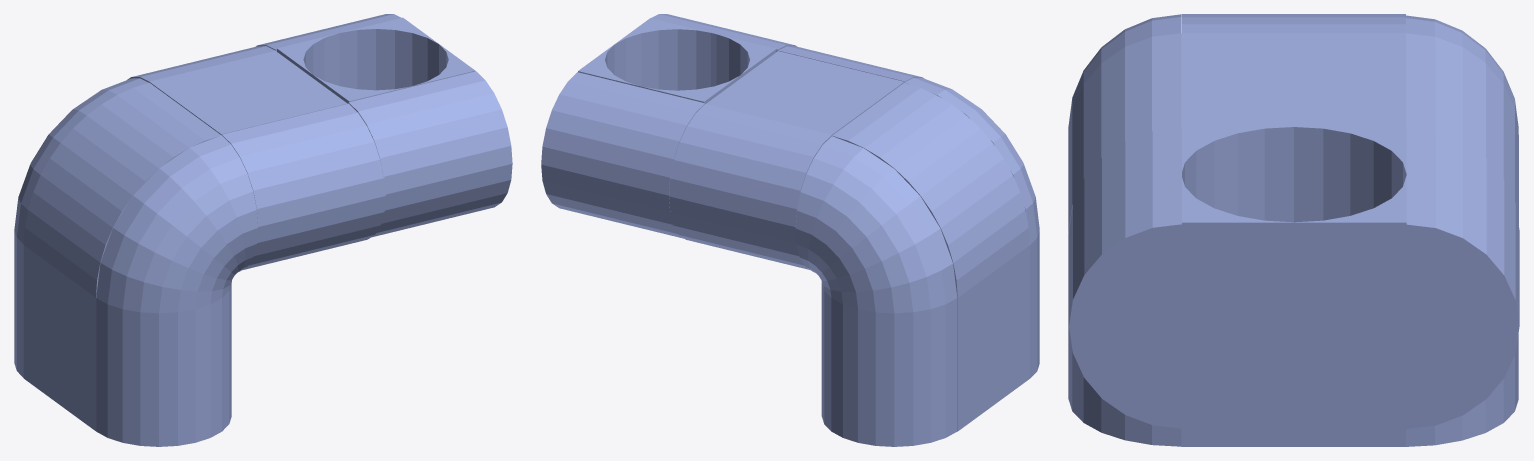
The picture shows the model from 3 angles, left to right: view 1: azimuth 30°, elevation 25°; view 2: azimuth 150°, elevation 25°; view 3: azimuth 270°, elevation 25°; orthographic projection. The views are drawn at different scales.
Visible parts, largest first — view 1: modelo005; view 2: modelo005; view 3: modelo005.
Boxes of the visible parts, x1,y1,x2,y2 form: modelo005: (14, 14, 512, 446); modelo005: (541, 14, 1039, 446); modelo005: (1068, 14, 1519, 446).
Bounding box in the file's own units: 0.1007 × 0.0679 × 0.0667.
